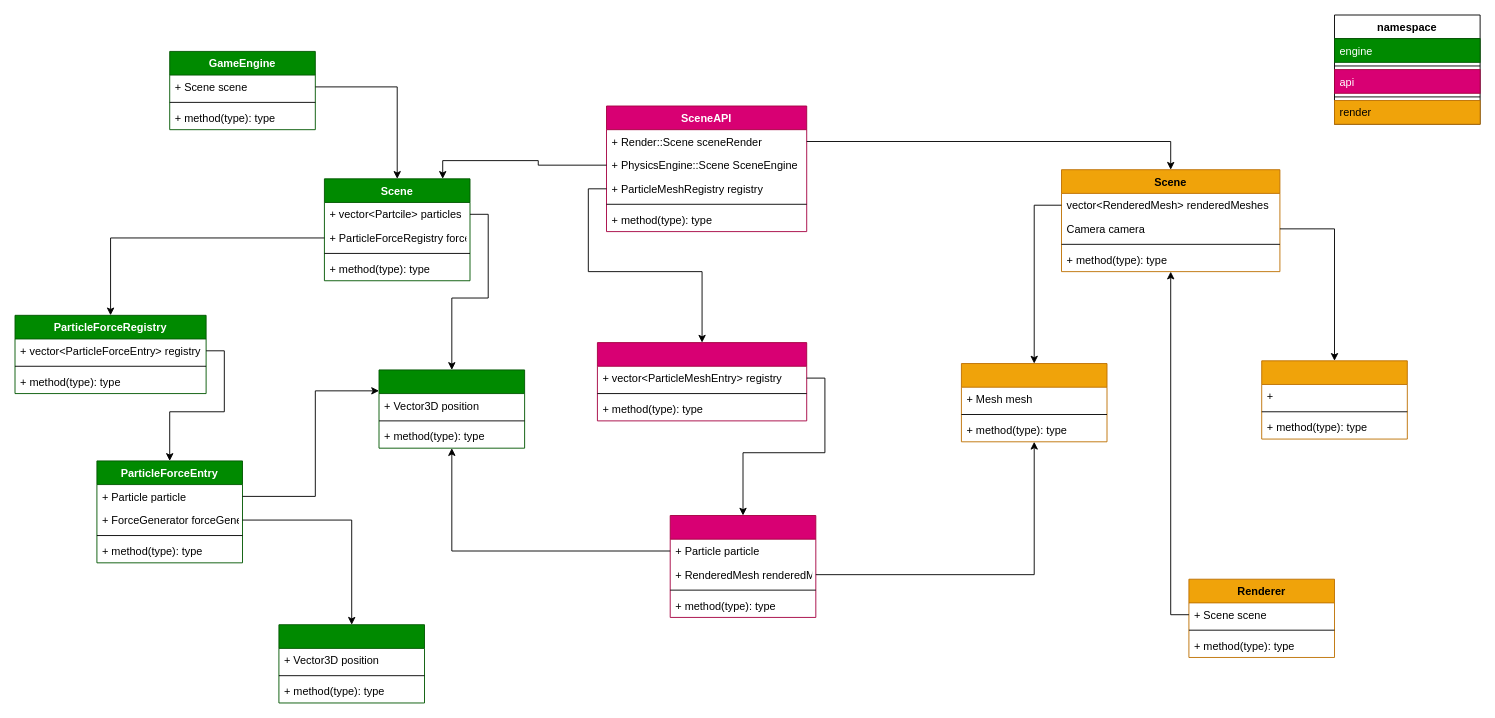
The diagram is 1495 pixels wide and 718 high, and some of its shapes have lost their labels. Each missing label, with the box of its shape:
Camera: (1261, 360, 1407, 439)
ForceGenerator: (278, 624, 425, 703)
Particle: (378, 369, 525, 448)
ParticleMeshEntry: (669, 515, 816, 617)
ParticleMeshRegistry: (597, 342, 807, 421)
RendererdMesh: (961, 363, 1107, 442)
